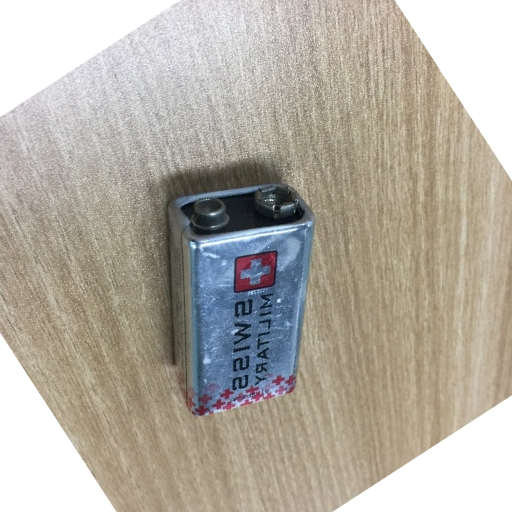Battery_3: (151, 166, 331, 431)
